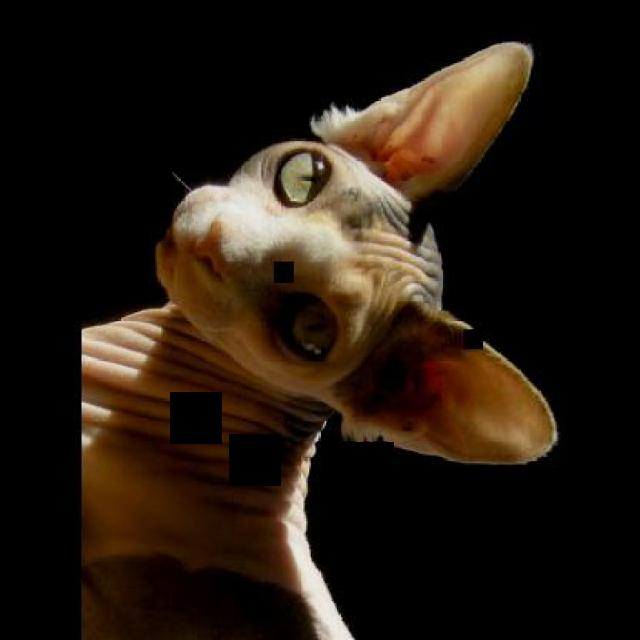unauthorized: (78, 39, 560, 638)
